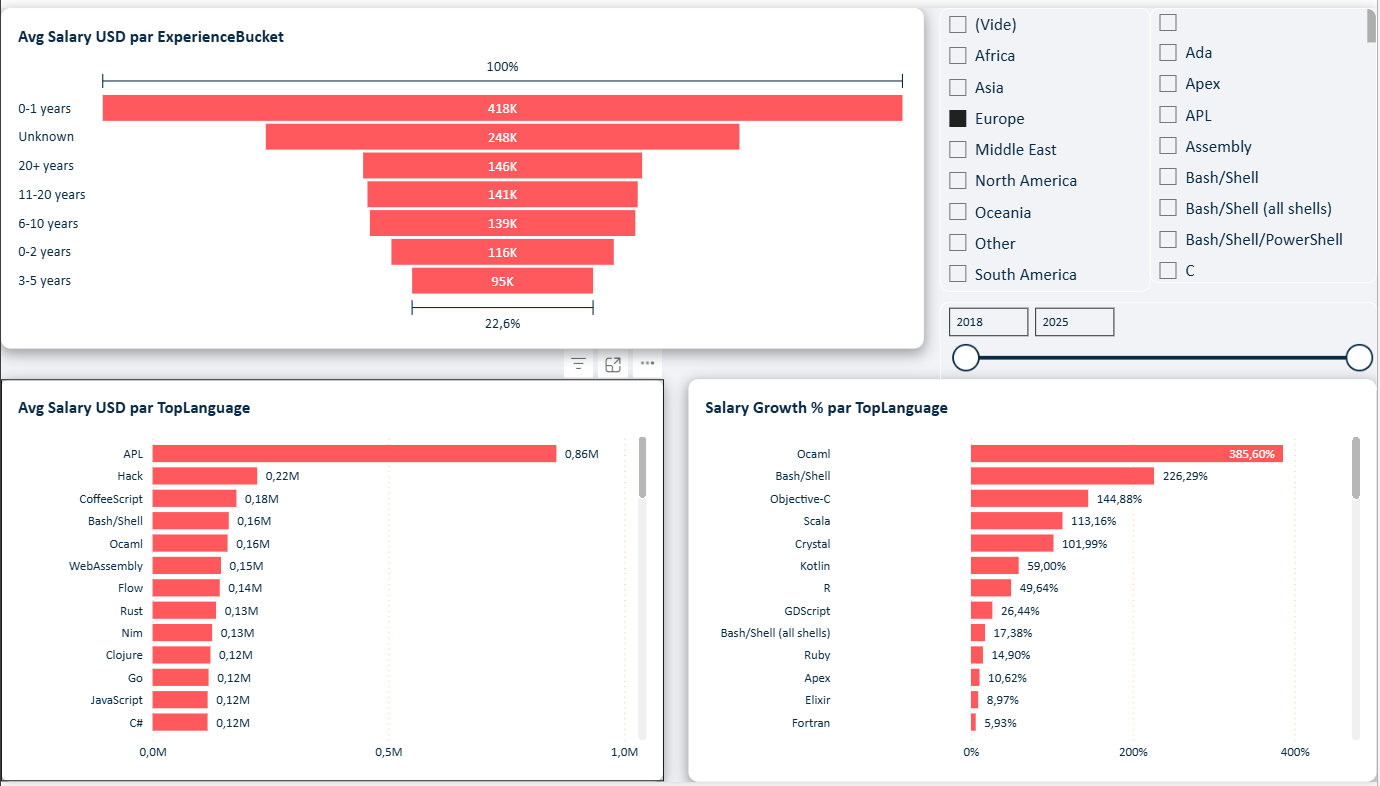

Layout of this report page (visuals, bound fields, positions):
{"tool":"powerbi","page":{"name":"developer","canvas":[1280,720],"ordinal":2},"visuals":[{"type":"slicer","fields":{"Values":["Dim_Geography.Region"]},"box":[872.9,0,195.7,264.3],"z":0},{"type":"barChart","fields":{"Y":["Fact_Developer.Avg Salary USD"],"Category":["Dim_Language.TopLanguage"]},"box":[0,345.7,615.7,374.3],"z":1000},{"type":"slicer","fields":{"Values":["Fact_Language.TopLanguage"]},"box":[1068.6,0,211.4,255.7],"z":2000},{"type":"clusteredBarChart","fields":{"Category":["Fact_Language.TopLanguage"],"Y":["Fact_Developer.Salary Growth %"]},"box":[640,345.7,640,374.3],"z":3000},{"type":"slicer","fields":{"Values":["Dim_Time.SurveyYear"]},"box":[872.9,272.9,407.1,87.1],"z":4000},{"type":"funnel","fields":{"Category":["Dim_Profile.ExperienceBucket"],"Y":["Fact_Developer.Avg Salary USD"]},"box":[0,0,858.6,317.1],"z":5000}]}

Visuals, with their boxes in screenshot pixels (x1, y1, x2, y2), scaled from the page's 1280x720 canvas onto the 1380x786 screenshot:
slicer - Dim_Geography.Region: locate(941, 0, 1152, 289)
barChart - Fact_Developer.Avg Salary USD x Dim_Language.TopLanguage: locate(0, 377, 664, 785)
slicer - Fact_Language.TopLanguage: locate(1152, 0, 1379, 279)
clusteredBarChart - Fact_Language.TopLanguage x Fact_Developer.Salary Growth %: locate(690, 377, 1379, 785)
slicer - Dim_Time.SurveyYear: locate(941, 298, 1379, 393)
funnel - Dim_Profile.ExperienceBucket x Fact_Developer.Avg Salary USD: locate(0, 0, 926, 346)
